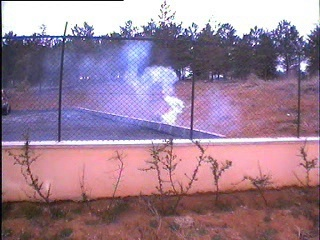smoke: (82, 38, 187, 126)
